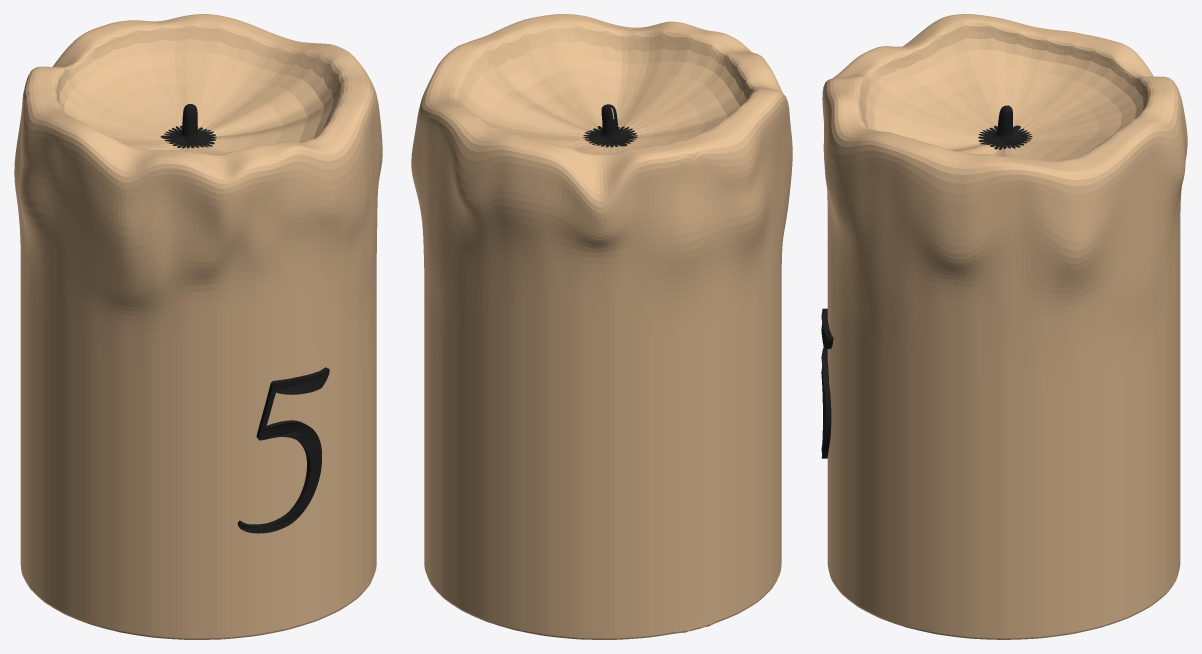
Rendered from Candle-5.fbx.
The picture shows the model from 3 angles, left to right: view 1: azimuth 30°, elevation 25°; view 2: azimuth 150°, elevation 25°; view 3: azimuth 270°, elevation 25°; orthographic projection.
Visible parts, largest first — view 1: Candle, Text; view 2: Candle; view 3: Candle, Text.
Part boxes in pixels (bbox=[...]): Candle: bbox=[14, 14, 382, 639]; Text: bbox=[237, 367, 329, 533]; Candle: bbox=[411, 14, 792, 639]; Candle: bbox=[822, 14, 1187, 639]; Text: bbox=[821, 308, 833, 458].
Bounding box in the file's own units: 41.75 × 60.84 × 41.42.
